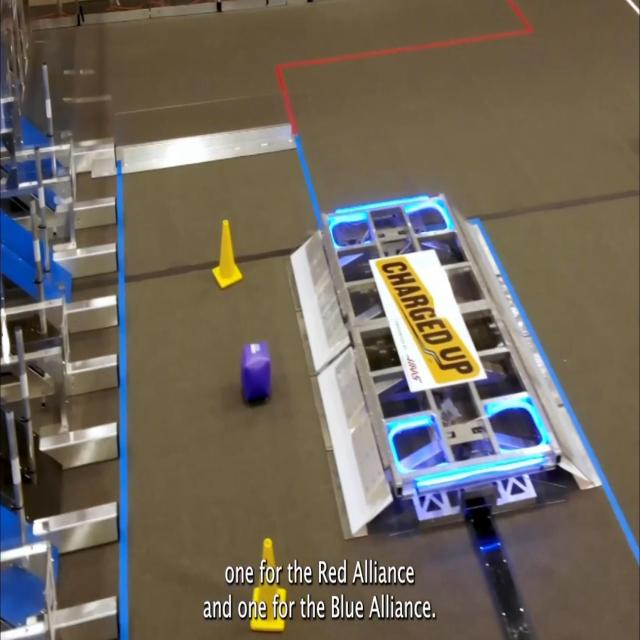frc_cone: (245, 533, 294, 633), (210, 220, 242, 289)
frc_cube: (239, 340, 273, 404)
